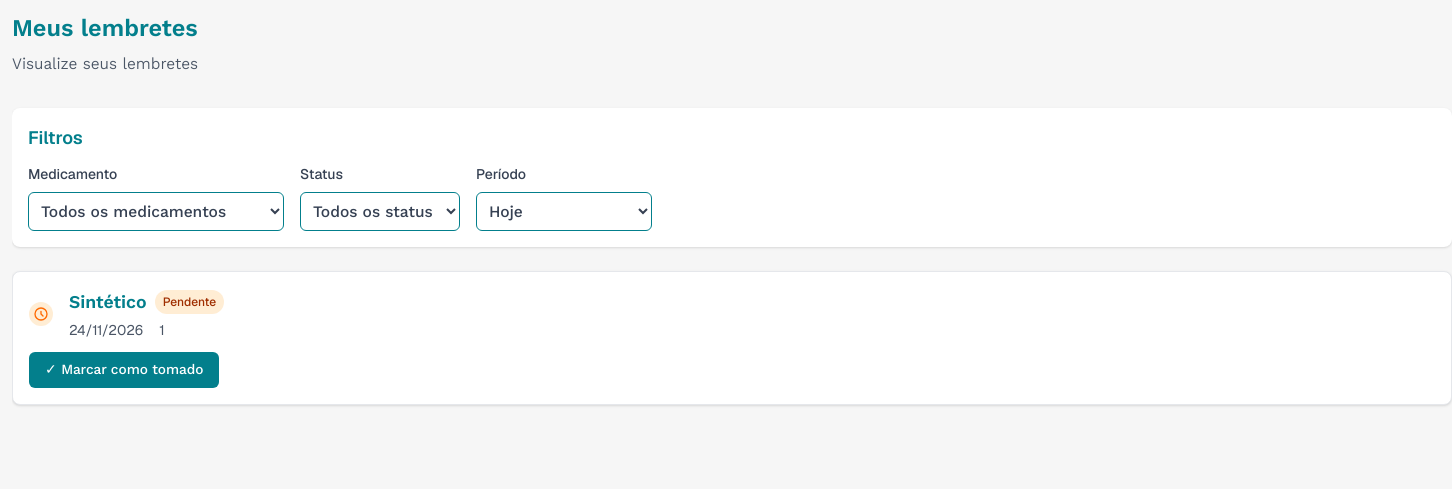
Test: NET-15 NET-16 lembretes › ERR-01 NET-16 PUT falho mantém dose pendente e recupera botão
Click the button "✓ Marcar como tomado".
click(124, 370)  # box 29,352 -> 219,388
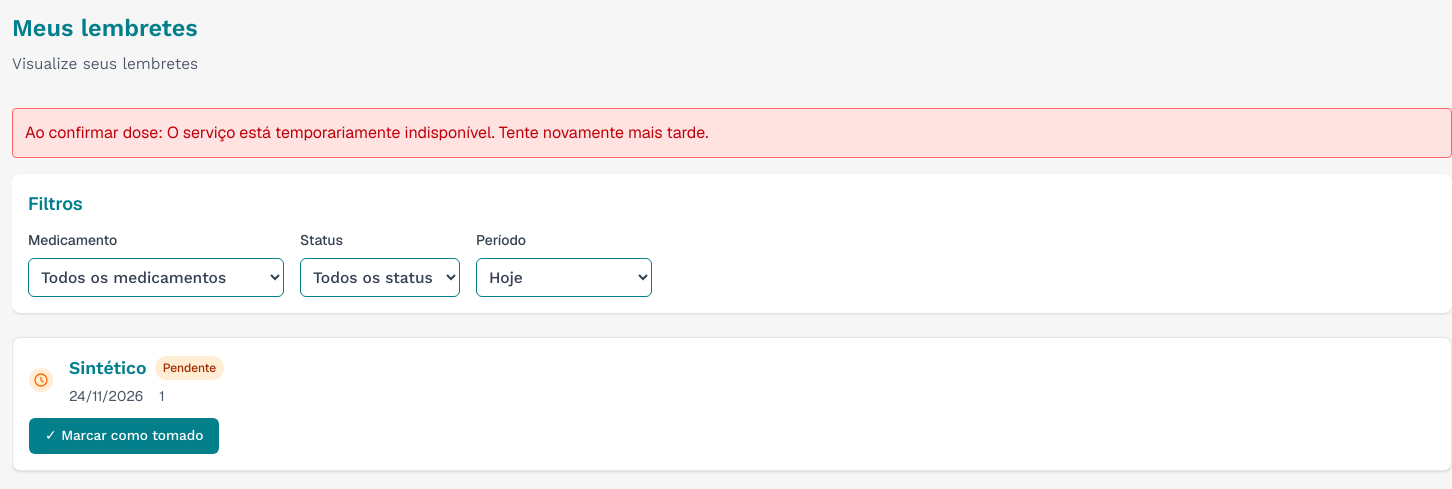
expect the text "Pendente" is shown: met, box 155,356 -> 224,380
expect the message shows "Ao confirmar dose: O serviço está temporariamente indisponível.": met, box 12,108 -> 1451,158
